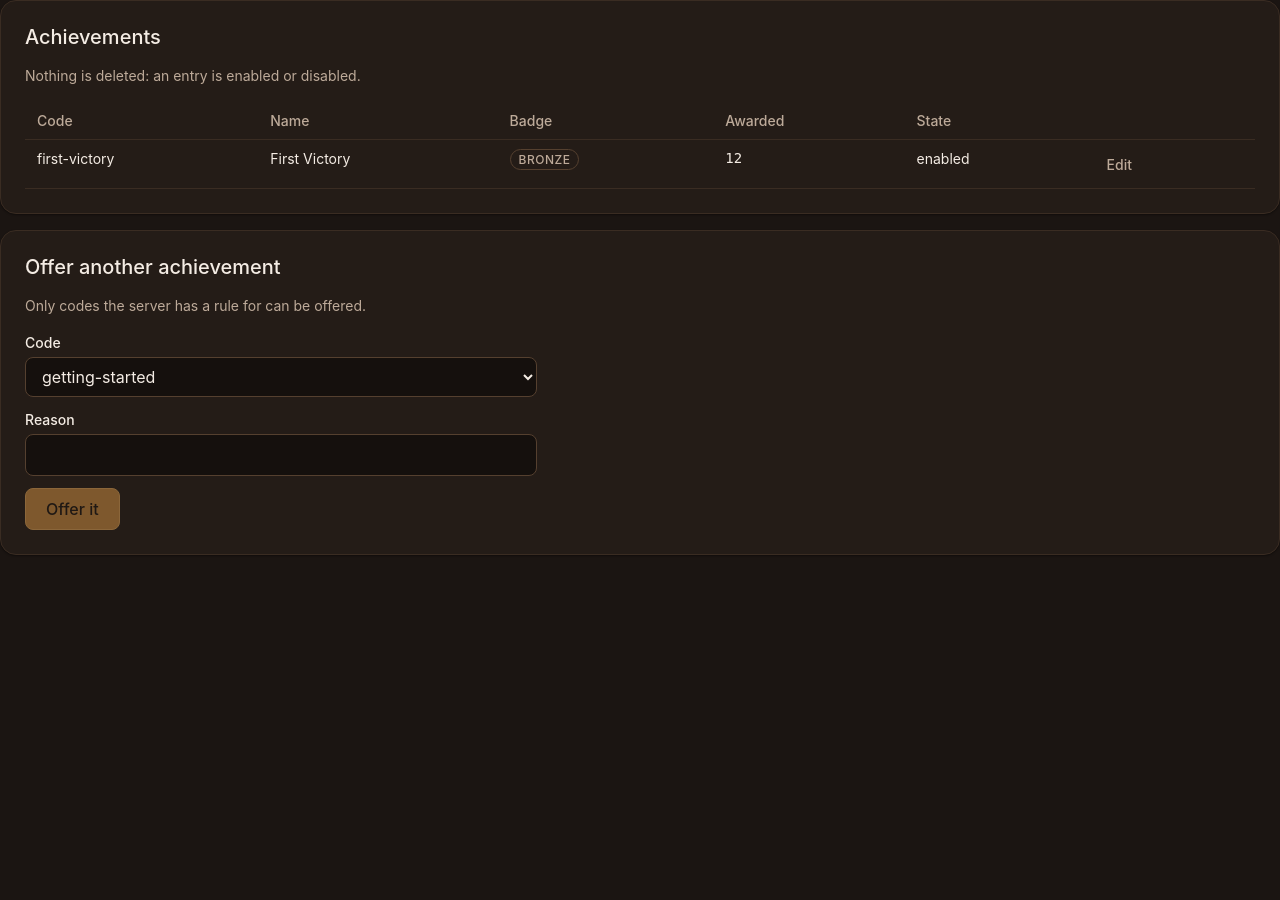
the achievement catalogue › says why a creation was refused
Type "offering it again" into the field with test id "achievement-create-reason" at (281, 455), box [25, 434, 537, 476]
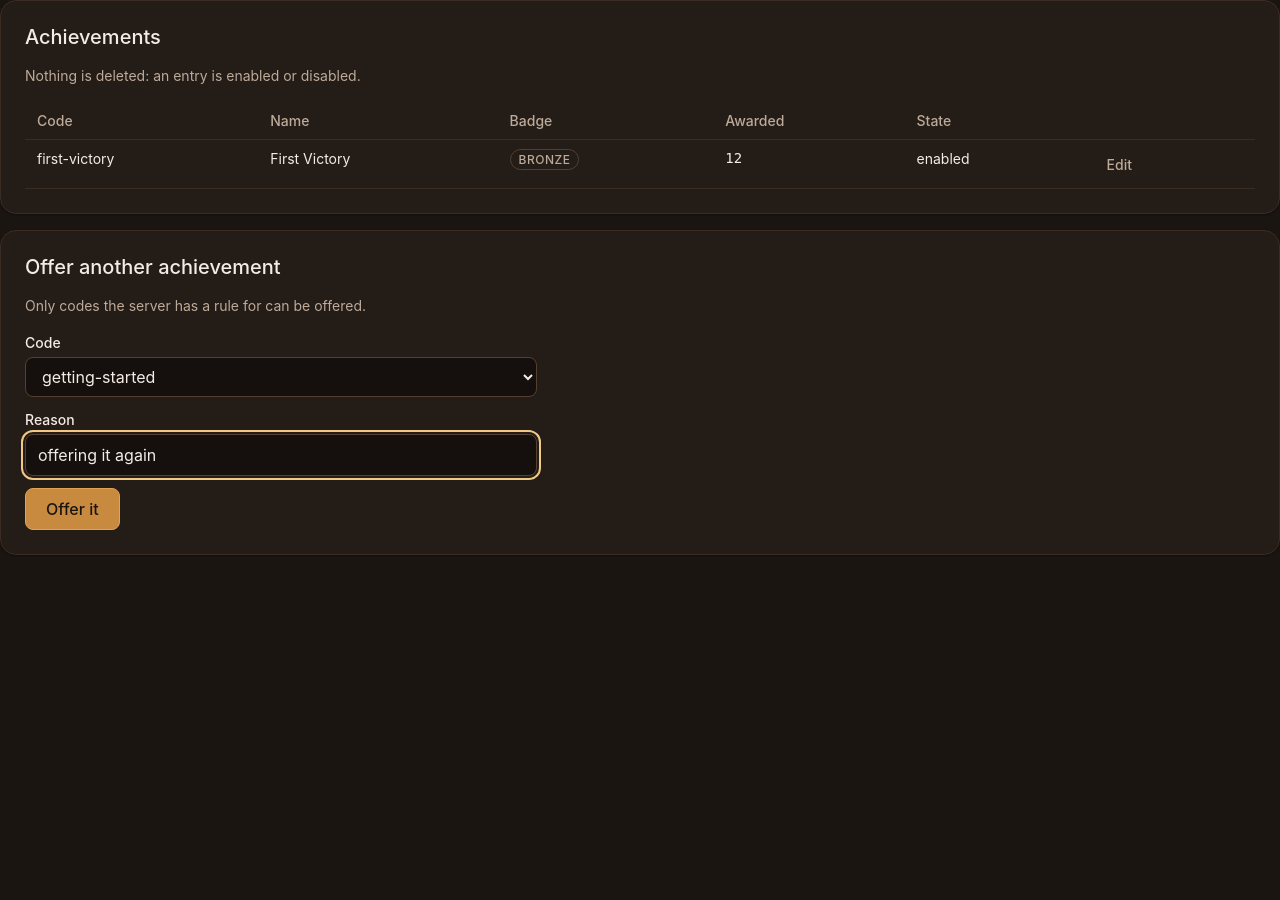
Click the button with test id "achievement-create" at (72, 509), box [25, 488, 120, 530]
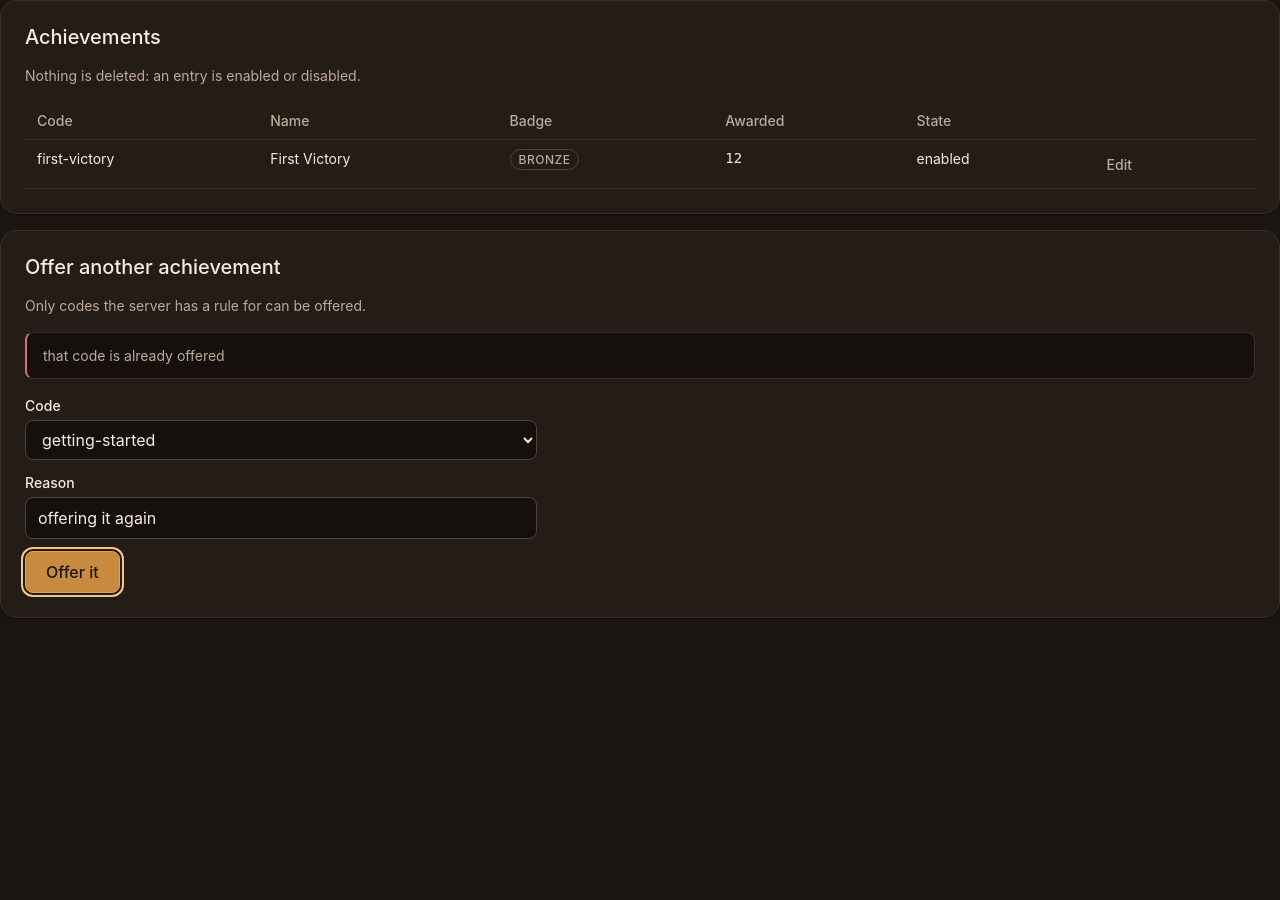
Check: the text "that code is already offered" is shown, box [43, 345, 225, 366]
